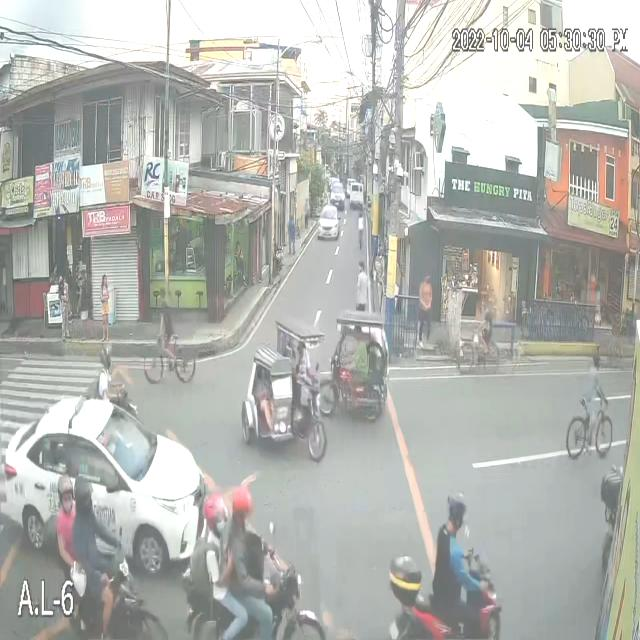Full-Faced: (585, 448, 618, 482), (76, 346, 89, 367)
Half-Faced: (376, 508, 408, 560), (188, 484, 214, 544), (160, 488, 183, 538), (50, 468, 68, 508), (34, 468, 55, 497)
Invalid: (186, 272, 202, 306), (566, 352, 573, 366)
